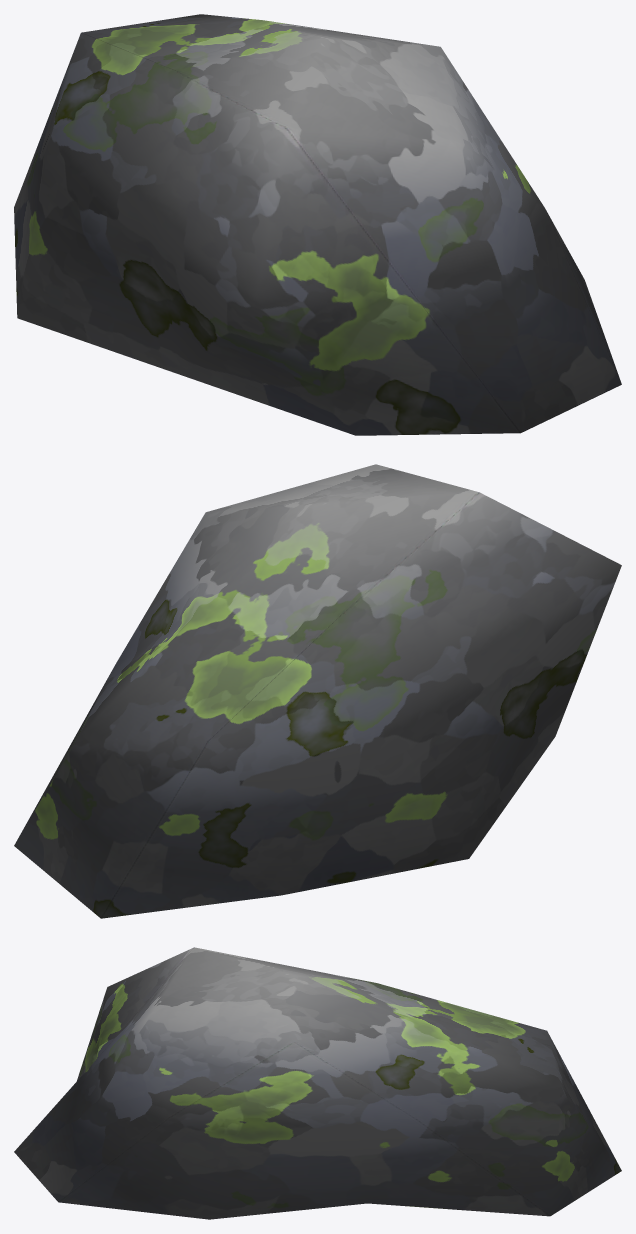
File: Stone.glb
The picture shows the model from 3 angles, top to bottom: view 1: azimuth 30°, elevation 25°; view 2: azimuth 150°, elevation 25°; view 3: azimuth 270°, elevation 25°; orthographic projection. The views are drawn at different scales.
Visible parts, largest first — view 1: Rock2; view 2: Rock2; view 3: Rock2.
Boxes of the visible parts, x1,y1,x2,y2 form: Rock2: (14, 14, 621, 435); Rock2: (14, 464, 621, 918); Rock2: (14, 947, 621, 1219).
Size of the model in its own units: 0.932 by 0.5687 by 1.58.
1 material, 1 textured.
